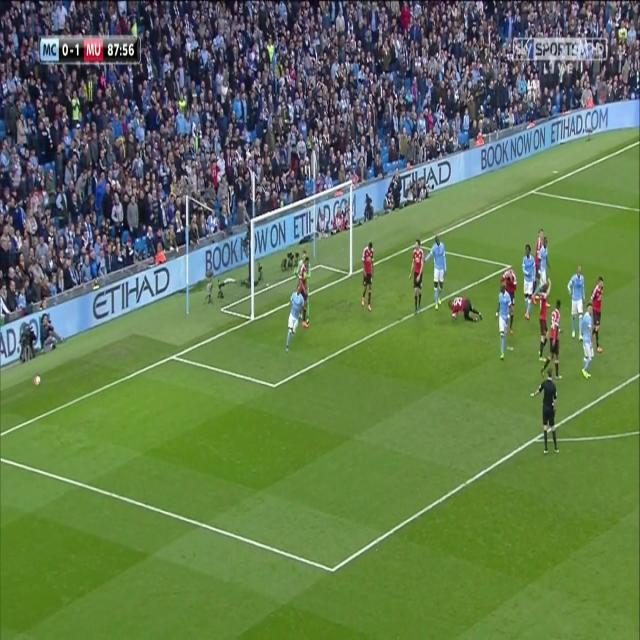Ball: (31, 371, 43, 389)
Player: (540, 300, 566, 382), (426, 233, 449, 312), (588, 271, 608, 354), (495, 281, 515, 363), (565, 265, 585, 342), (580, 302, 598, 382), (285, 284, 305, 352), (360, 239, 377, 317), (408, 238, 425, 314), (536, 239, 553, 311), (447, 296, 486, 326), (522, 244, 536, 319), (538, 288, 550, 364), (301, 255, 309, 330), (502, 265, 518, 302), (536, 223, 544, 264)
Referee: (529, 368, 562, 456)
